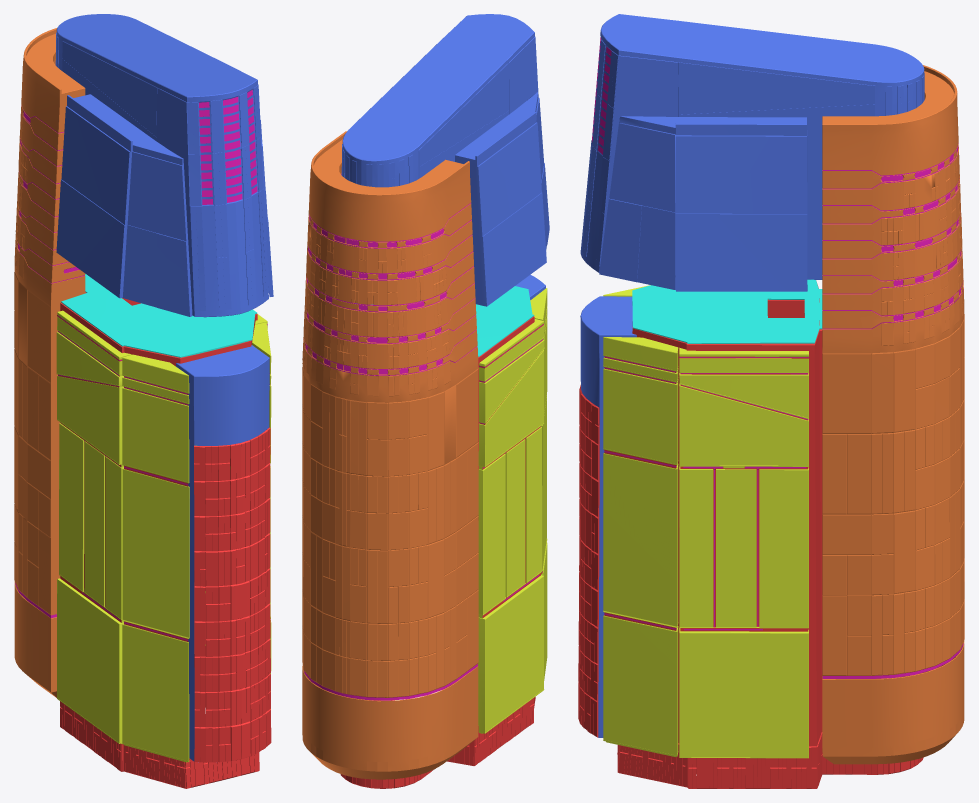
The model's file is Building.11.fbx.
3 renders of one model, left to right at view 1: azimuth 30°, elevation 25°; view 2: azimuth 150°, elevation 25°; view 3: azimuth 270°, elevation 25°, orthographic. The views are drawn at different scales.
Visible parts, largest first — view 1: Building_11; view 2: Building_11; view 3: Building_11.
Part boxes in pixels (x1,y1,x2,y2): Building_11: [14, 14, 273, 788]; Building_11: [302, 14, 549, 788]; Building_11: [578, 14, 964, 788].
Size of the model in its own units: 1903 by 8337 by 4028.
